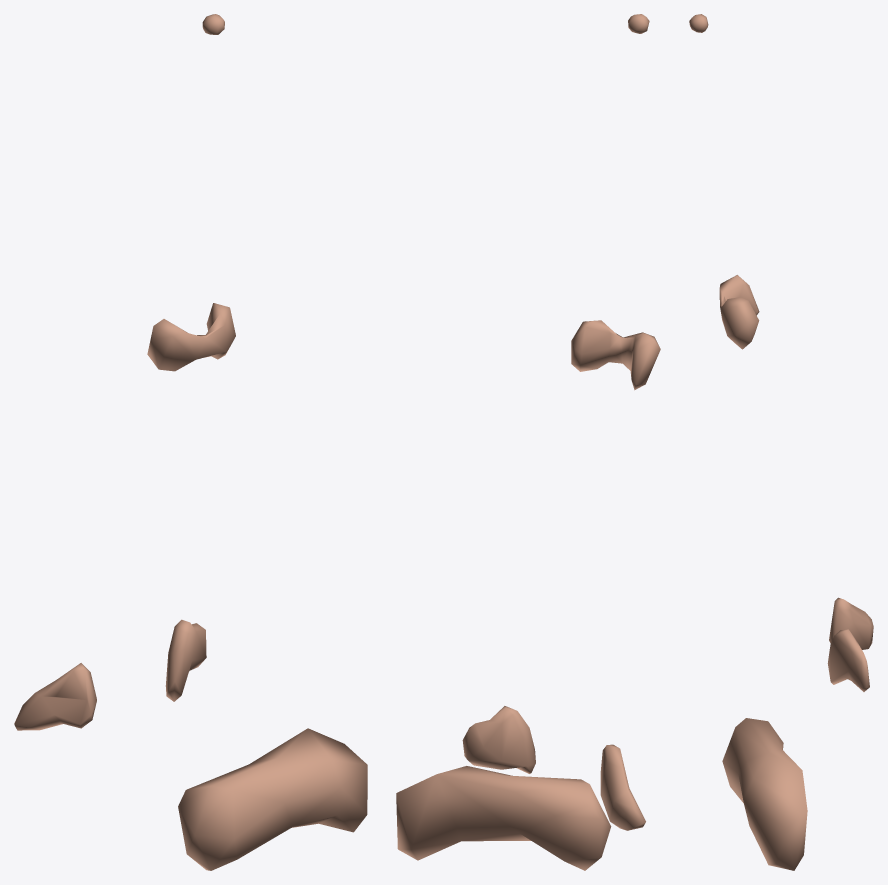
Rendered from pediatric_child_5y_male.endocrine.LOD3.glb.
3 renders of one model, left to right at view 1: azimuth 30°, elevation 25°; view 2: azimuth 150°, elevation 25°; view 3: azimuth 270°, elevation 25°, orthographic. The views are drawn at different scales.
Visible parts, largest first — view 1: PEDIATRIC.CHILD_5Y.MALE.ENDOCRINE.PANCREAS, PEDIATRIC.CHILD_5Y.MALE.ENDOCRINE.ADRENAL.R, PEDIATRIC.CHILD_5Y.MALE.ENDOCRINE.THYROID, PEDIATRIC.CHILD_5Y.MALE.ENDOCRINE.ADRENAL.L; view 2: PEDIATRIC.CHILD_5Y.MALE.ENDOCRINE.PANCREAS, PEDIATRIC.CHILD_5Y.MALE.ENDOCRINE.THYROID, PEDIATRIC.CHILD_5Y.MALE.ENDOCRINE.ADRENAL.L, PEDIATRIC.CHILD_5Y.MALE.ENDOCRINE.ADRENAL.R; view 3: PEDIATRIC.CHILD_5Y.MALE.ENDOCRINE.PANCREAS, PEDIATRIC.CHILD_5Y.MALE.ENDOCRINE.THYROID, PEDIATRIC.CHILD_5Y.MALE.ENDOCRINE.ADRENAL.L, PEDIATRIC.CHILD_5Y.MALE.ENDOCRINE.ADRENAL.R.
Boxes of the visible parts, bbox=[...] form: PEDIATRIC.CHILD_5Y.MALE.ENDOCRINE.PANCREAS: bbox=[178, 728, 367, 870]; PEDIATRIC.CHILD_5Y.MALE.ENDOCRINE.ADRENAL.R: bbox=[14, 663, 96, 730]; PEDIATRIC.CHILD_5Y.MALE.ENDOCRINE.THYROID: bbox=[147, 303, 235, 371]; PEDIATRIC.CHILD_5Y.MALE.ENDOCRINE.ADRENAL.L: bbox=[165, 619, 206, 701]; PEDIATRIC.CHILD_5Y.MALE.ENDOCRINE.PANCREAS: bbox=[396, 766, 611, 870]; PEDIATRIC.CHILD_5Y.MALE.ENDOCRINE.THYROID: bbox=[571, 320, 660, 390]; PEDIATRIC.CHILD_5Y.MALE.ENDOCRINE.ADRENAL.L: bbox=[462, 706, 535, 773]; PEDIATRIC.CHILD_5Y.MALE.ENDOCRINE.ADRENAL.R: bbox=[600, 744, 645, 830]; PEDIATRIC.CHILD_5Y.MALE.ENDOCRINE.PANCREAS: bbox=[722, 718, 807, 870]; PEDIATRIC.CHILD_5Y.MALE.ENDOCRINE.THYROID: bbox=[719, 275, 759, 349]; PEDIATRIC.CHILD_5Y.MALE.ENDOCRINE.ADRENAL.L: bbox=[827, 629, 869, 691]; PEDIATRIC.CHILD_5Y.MALE.ENDOCRINE.ADRENAL.R: bbox=[829, 597, 873, 649].
Bounding box in the file's own units: 0.1277 × 0.3544 × 0.0762.
